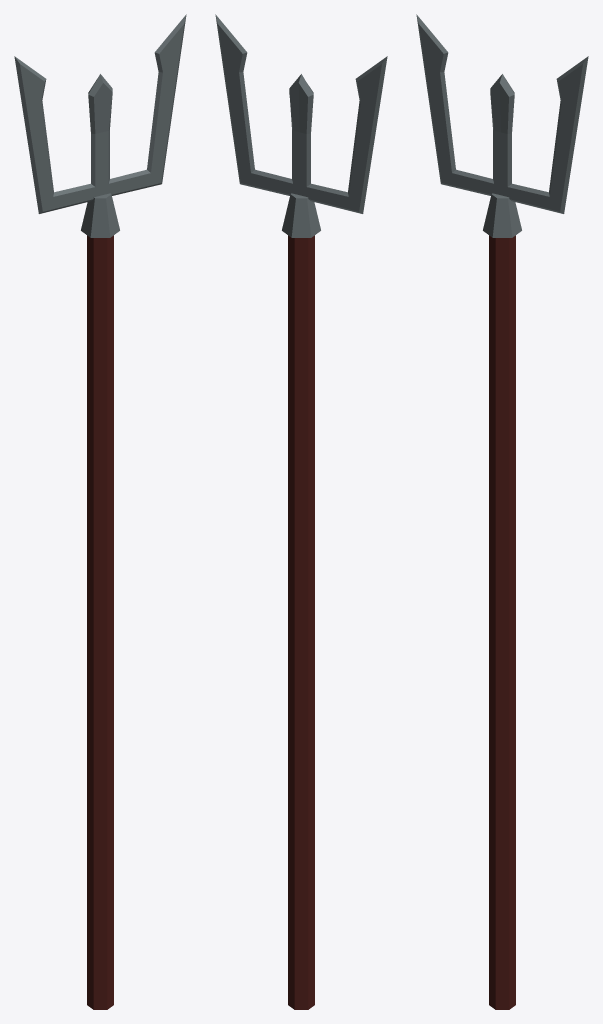
Rendered from trident.glb.
3 views of the same model, side by side, from view 1: azimuth 30°, elevation 25°; view 2: azimuth 150°, elevation 25°; view 3: azimuth 330°, elevation 25° (orthographic).
Visible parts, largest first — view 1: trident, trident.001; view 2: trident, trident.001; view 3: trident, trident.001.
Boxes of the visible parts, left/top/right/bottom form: trident: left=81, top=193, right=119, bottom=1009; trident.001: left=14, top=14, right=186, bottom=213; trident: left=282, top=193, right=320, bottom=1009; trident.001: left=215, top=14, right=387, bottom=213; trident: left=483, top=193, right=521, bottom=1009; trident.001: left=416, top=14, right=588, bottom=213.
Size of the model in its own units: 0.4643 by 2.5 by 0.0923.
